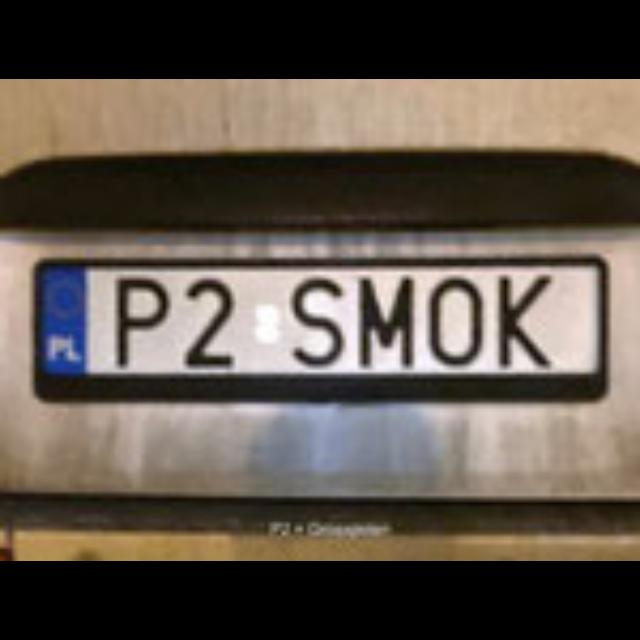pl_license_plate: (39, 263, 593, 365)
